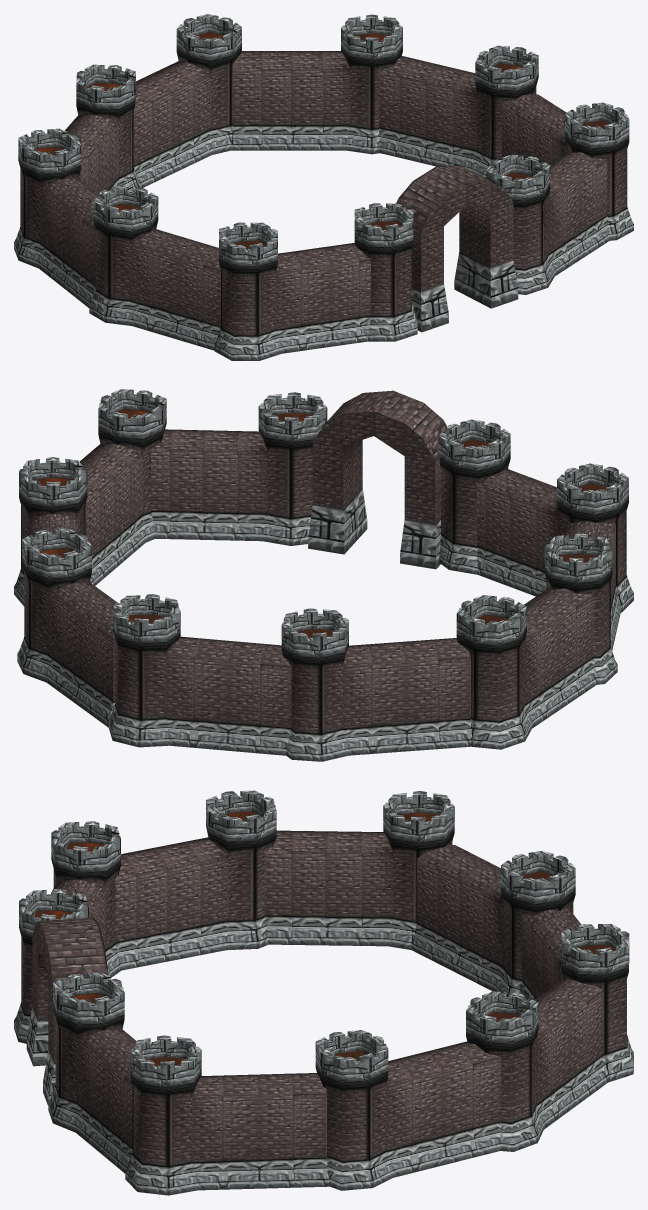
Rendered from full_castle2.glb.
3 views of the same model, one above another, from view 1: azimuth 30°, elevation 25°; view 2: azimuth 150°, elevation 25°; view 3: azimuth 270°, elevation 25° (orthographic). The views are drawn at different scales.
Parts seen in each view (by area): view 1: Cube.004; view 2: Cube.004; view 3: Cube.004.
Part boxes in pixels (left/top/right/bottom): Cube.004: left=14, top=14, right=633, bottom=360; Cube.004: left=14, top=389, right=633, bottom=761; Cube.004: left=14, top=790, right=633, bottom=1195.
Size of the model in its own units: 20.55 by 5.18 by 19.28.
2 materials, 2 textured.
